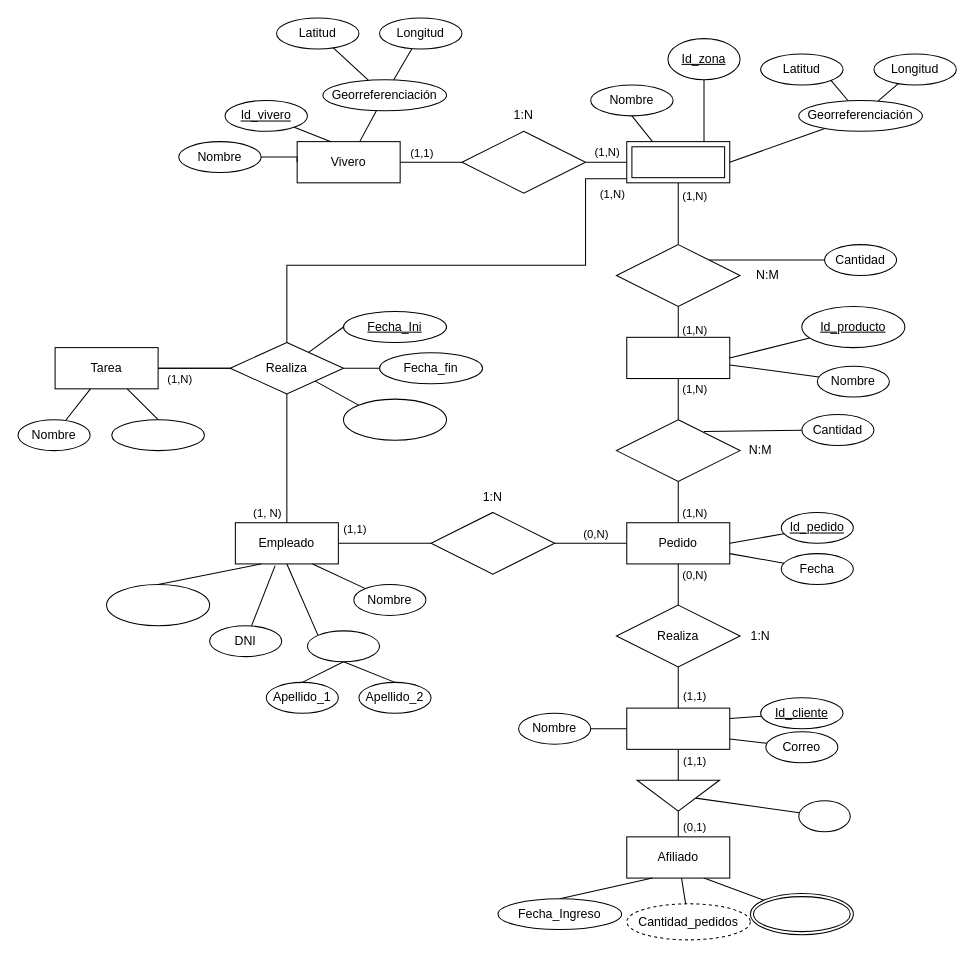
This 974x958 diagram has some shape labels left out. The box of each missing label's shape, as (x1, y1, x2, y2) in pixels:
Almacena: (615, 244, 740, 306)
Apellido: (306, 630, 380, 662)
Bonificaciones: (749, 892, 853, 935)
Cliente: (626, 707, 730, 749)
Contiene: (615, 419, 740, 482)
Gestiona: (430, 511, 555, 574)
ID Tiene: (461, 130, 586, 193)
Id_empleado: (106, 583, 210, 626)
Id_tarea: (111, 419, 204, 451)
Producto: (626, 336, 730, 379)
Puesto: (342, 398, 447, 440)
Tipo: (798, 800, 850, 832)
Zona: (626, 141, 730, 183)
